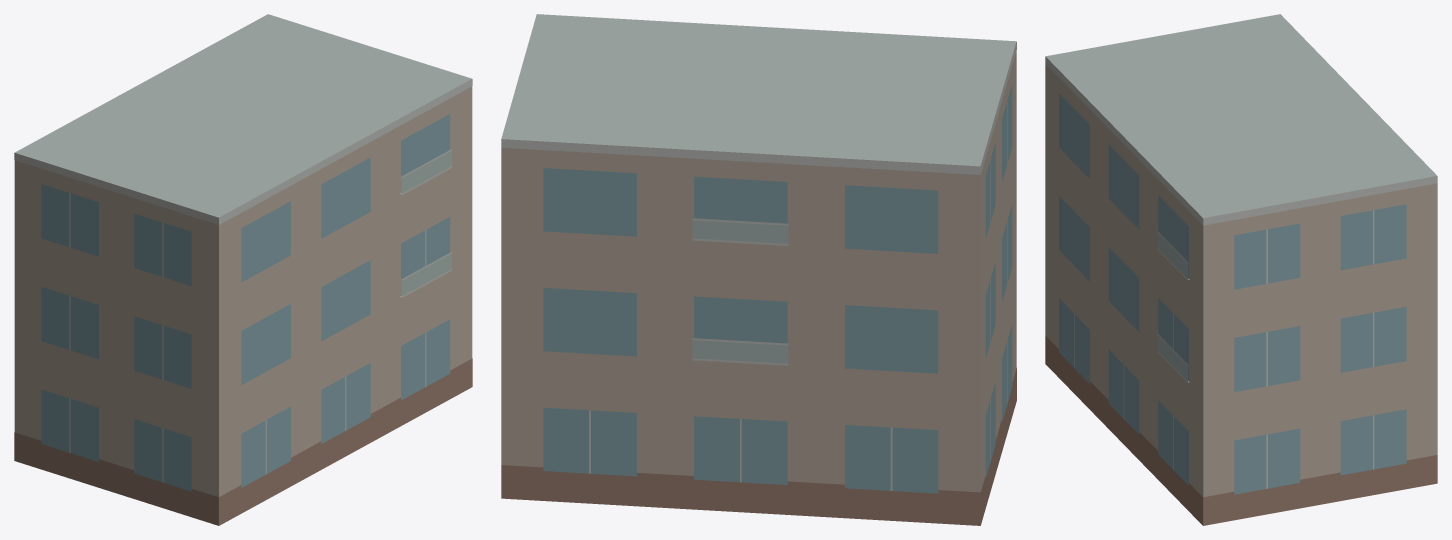
The model's file is survey-upis-32635998.glb.
The picture shows the model from 3 angles, left to right: view 1: azimuth 30°, elevation 25°; view 2: azimuth 150°, elevation 25°; view 3: azimuth 270°, elevation 25°; orthographic projection. The views are drawn at different scales.
Visible parts, largest first — view 1: survey-upis-32635998.tmp; view 2: survey-upis-32635998.tmp; view 3: survey-upis-32635998.tmp.
Part boxes in pixels (x1,y1,x2,y2): survey-upis-32635998.tmp: (14, 14, 472, 525); survey-upis-32635998.tmp: (501, 14, 1016, 525); survey-upis-32635998.tmp: (1045, 14, 1437, 525).
Size of the model in its own units: 14.53 by 10.2 by 11.79.
